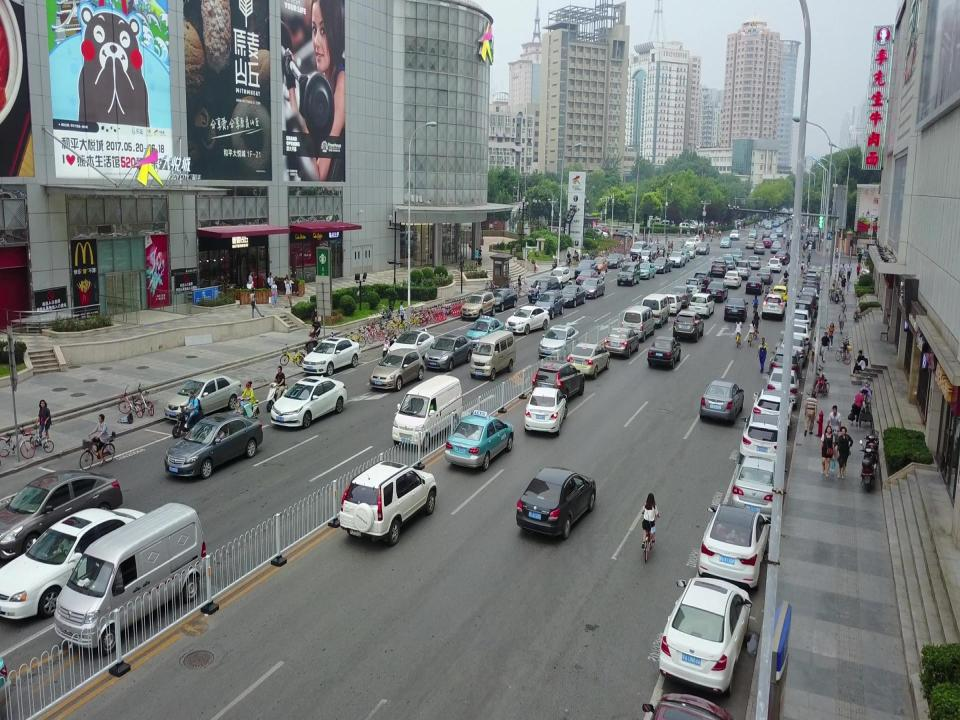car: (0, 506, 164, 621), (0, 469, 138, 561), (658, 573, 752, 695), (338, 460, 438, 546), (163, 409, 264, 477), (514, 466, 599, 541), (698, 502, 770, 590), (393, 376, 465, 449), (165, 370, 243, 424), (444, 410, 514, 470), (271, 376, 349, 428), (728, 453, 781, 519), (301, 334, 360, 376), (370, 349, 426, 391), (524, 387, 570, 435), (531, 361, 583, 401), (742, 410, 782, 461), (699, 381, 744, 423), (750, 388, 792, 433), (428, 333, 474, 373), (539, 324, 580, 361), (566, 342, 611, 375), (388, 331, 434, 361), (765, 364, 800, 400), (467, 315, 507, 345), (508, 304, 548, 333), (459, 287, 495, 319), (623, 304, 653, 341), (648, 335, 680, 368), (673, 310, 703, 343), (605, 328, 639, 356), (641, 294, 669, 328), (533, 289, 565, 318), (782, 318, 810, 350), (780, 332, 805, 364), (771, 346, 801, 371), (783, 306, 810, 333), (490, 289, 519, 312), (528, 277, 558, 298), (576, 277, 606, 298), (688, 291, 714, 315), (724, 295, 747, 322), (763, 293, 785, 319), (616, 264, 640, 286), (797, 289, 815, 318), (560, 284, 586, 304), (706, 280, 730, 301), (548, 266, 570, 287), (796, 299, 814, 323), (684, 274, 702, 298), (576, 267, 598, 286), (577, 258, 597, 277), (724, 270, 742, 289), (629, 241, 649, 258), (735, 259, 751, 280), (746, 276, 764, 294), (674, 284, 690, 304), (696, 270, 712, 290), (666, 291, 680, 313), (654, 257, 672, 274), (757, 266, 773, 285), (710, 259, 726, 277), (640, 262, 656, 280), (803, 283, 819, 300), (773, 250, 790, 266), (669, 250, 685, 267), (607, 252, 625, 267), (772, 284, 788, 299), (594, 254, 608, 271), (805, 271, 819, 287), (721, 254, 735, 270), (767, 258, 783, 272), (695, 241, 709, 256), (747, 254, 761, 268), (684, 237, 700, 249), (730, 249, 744, 262), (650, 243, 664, 255), (719, 236, 731, 249), (639, 250, 653, 261), (753, 242, 765, 254), (745, 236, 755, 249), (729, 229, 739, 241), (762, 238, 772, 248), (749, 230, 759, 239), (772, 241, 780, 252), (769, 233, 777, 242), (775, 227, 783, 235), (762, 232, 770, 240)
van: (52, 497, 207, 655), (469, 330, 517, 378)
